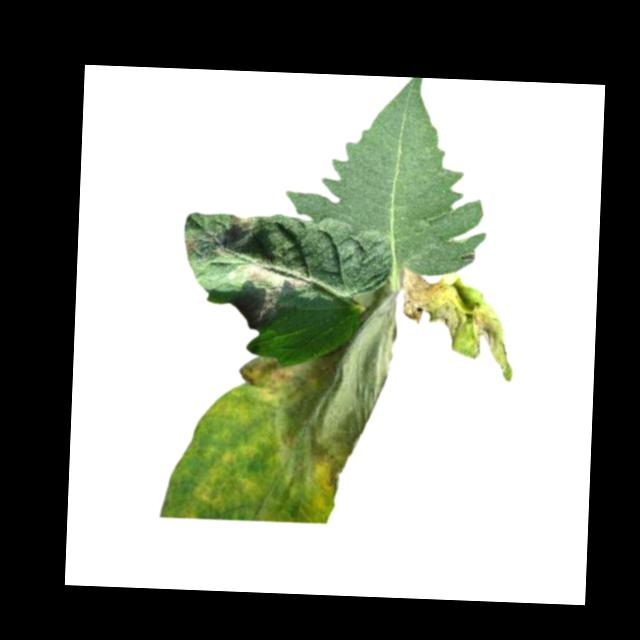Late_blight: (159, 276, 401, 527), (400, 267, 519, 383), (232, 261, 315, 288), (261, 285, 283, 315), (229, 213, 257, 233), (184, 234, 209, 256)
healthy: (284, 73, 494, 276)
